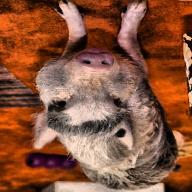boar: (27, 0, 180, 191)
